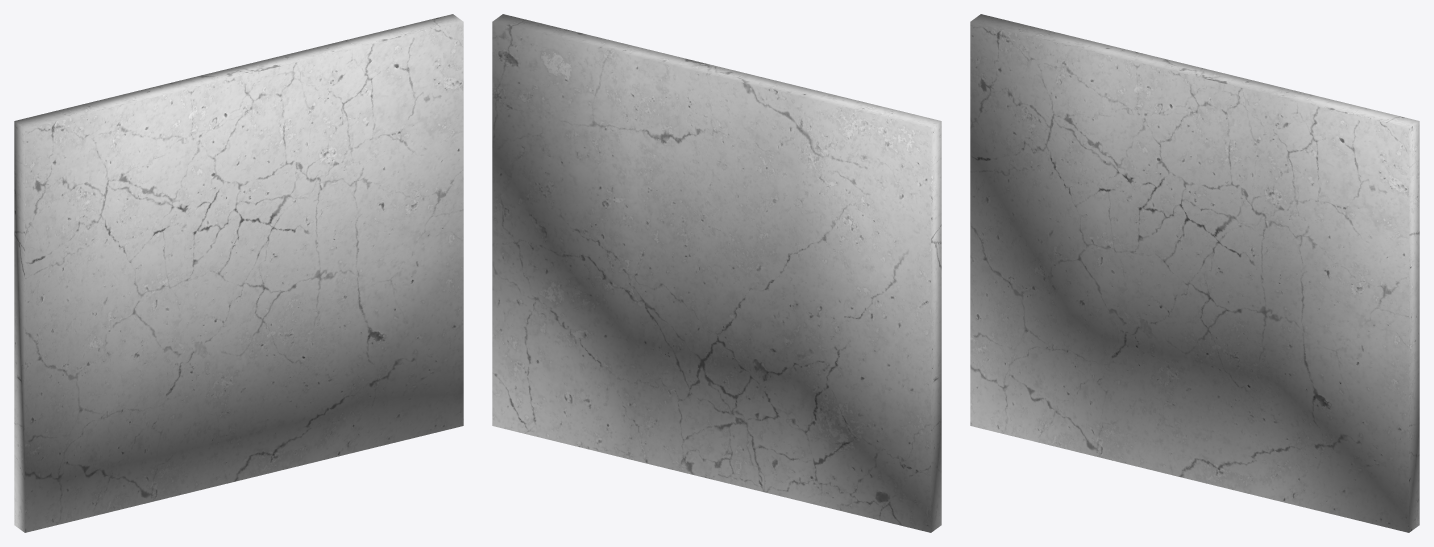
File: parede 3d.fbx
3 renders of one model, left to right at view 1: azimuth 30°, elevation 25°; view 2: azimuth 150°, elevation 25°; view 3: azimuth 330°, elevation 25°, orthographic.
Parts seen in each view (by area): view 1: parede com janela.001; view 2: parede com janela.001; view 3: parede com janela.001.
Part boxes in pixels (x1,y1,x2,y2): parede com janela.001: (14, 14, 463, 532); parede com janela.001: (492, 14, 941, 532); parede com janela.001: (970, 14, 1419, 532).
Size of the model in its own units: 454 by 400 by 19.
1 material, 1 textured.
